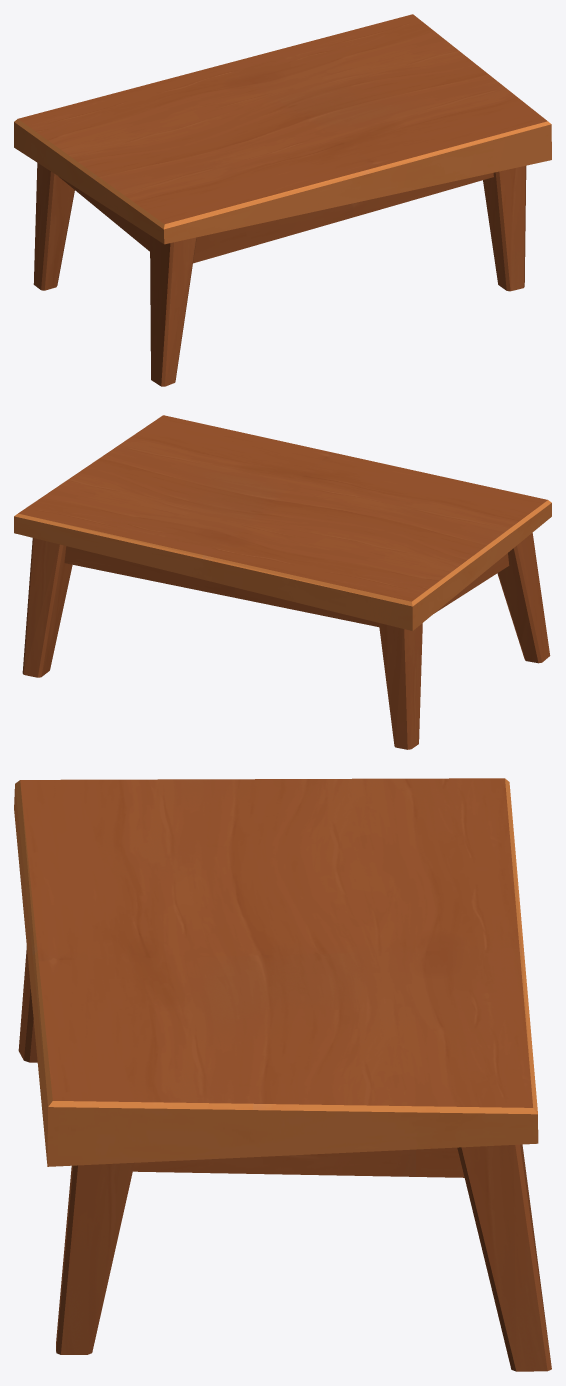
File: SofaTable.FBX
3 renders of one model, top to bottom at view 1: azimuth 30°, elevation 25°; view 2: azimuth 150°, elevation 25°; view 3: azimuth 270°, elevation 25°, orthographic. The views are drawn at different scales.
Parts seen in each view (by area): view 1: DiningTable002; view 2: DiningTable002; view 3: DiningTable002.
Part boxes in pixels (x1=…): DiningTable002: x1=14, y1=14, x2=551, y2=386; DiningTable002: x1=14, y1=415, x2=551, y2=749; DiningTable002: x1=14, y1=778, x2=551, y2=1371.
Size of the model in its own units: 164 by 62.04 by 111.
